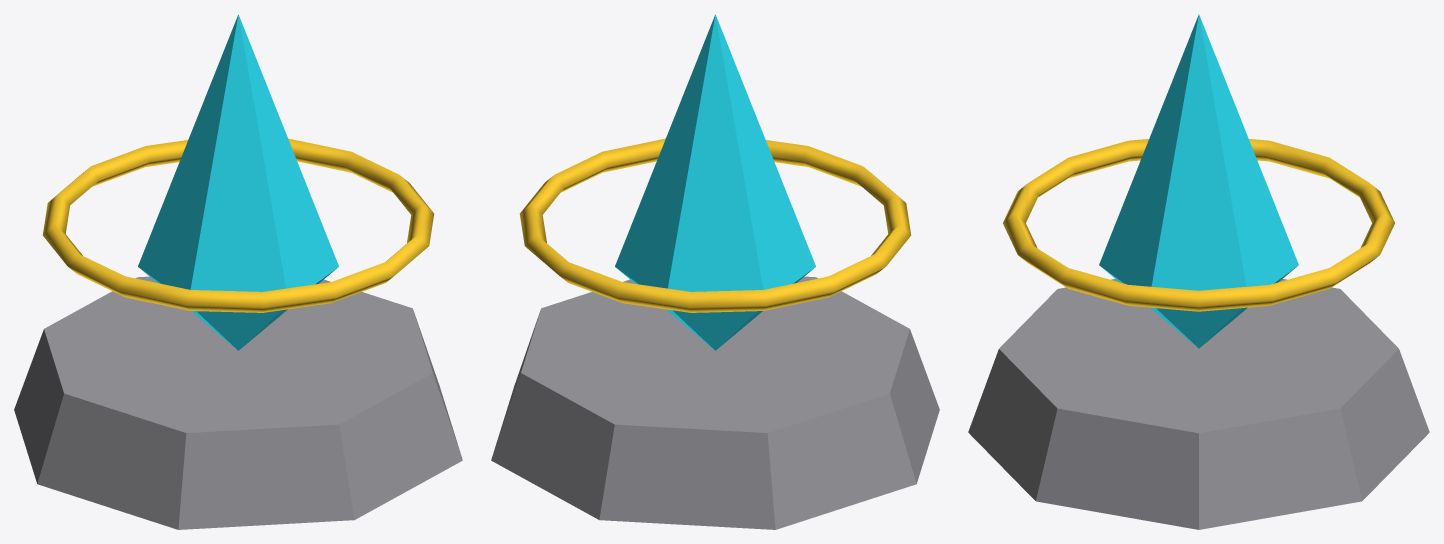
Rendered from goal.obj.
3 renders of one model, left to right at view 1: azimuth 30°, elevation 25°; view 2: azimuth 150°, elevation 25°; view 3: azimuth 270°, elevation 25°, orthographic.
Visible parts, largest first — view 1: goal; view 2: goal; view 3: goal.
Boxes of the visible parts, x1,y1,x2,y2 form: goal: [14, 14, 462, 529]; goal: [491, 14, 939, 529]; goal: [968, 14, 1429, 529].
Size of the model in its own units: 0.6 by 0.6 by 0.6.
